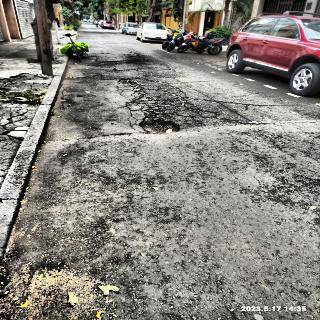alligator-crack: (123, 86, 193, 118), (186, 107, 218, 127), (105, 68, 146, 74), (125, 58, 152, 64)
crack: (195, 97, 299, 110), (144, 78, 216, 85), (219, 117, 269, 126), (78, 131, 132, 139), (203, 60, 219, 66), (192, 55, 205, 60), (178, 55, 191, 60), (122, 41, 136, 44), (104, 78, 117, 81), (99, 74, 104, 80), (99, 61, 124, 62), (138, 43, 148, 45)
pothole: (139, 120, 182, 134), (118, 78, 138, 85), (128, 54, 140, 59), (76, 76, 90, 78), (106, 53, 113, 55), (221, 61, 226, 62)
